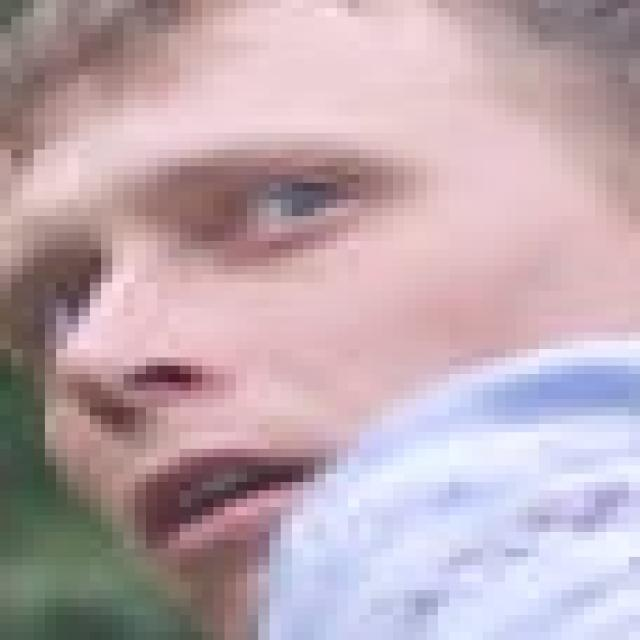Anxiety: (0, 3, 629, 632)
